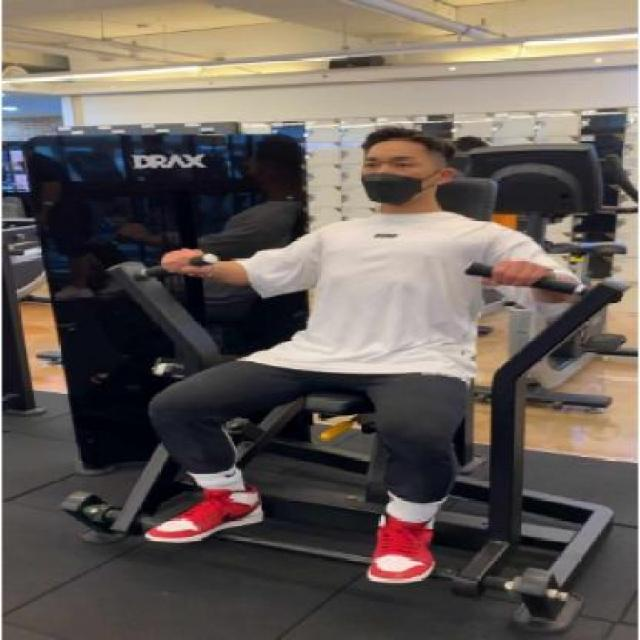Chest Press machine: (20, 100, 640, 640)
